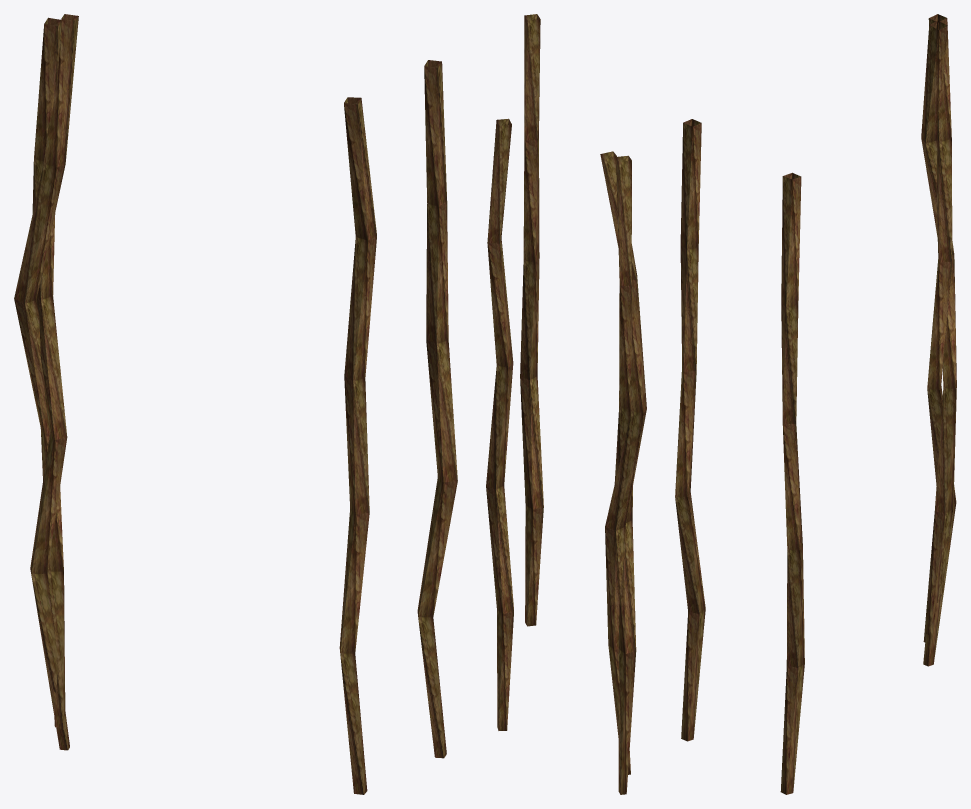
Rendered from C3SNJNGVINE.obj.
The picture shows the model from 3 angles, left to right: view 1: azimuth 30°, elevation 25°; view 2: azimuth 150°, elevation 25°; view 3: azimuth 270°, elevation 25°; orthographic projection. The views are drawn at different scales.
Visible parts, largest first — view 1: Node 0; view 2: Node 0; view 3: Node 0.
Part boxes in pixels (x1,y1,x2,y2): Node 0: [14, 14, 457, 794]; Node 0: [486, 14, 646, 794]; Node 0: [675, 14, 956, 794].
Size of the model in its own units: 5.89 by 14.92 by 5.6.
Materials: 1 (1 with a texture image).
